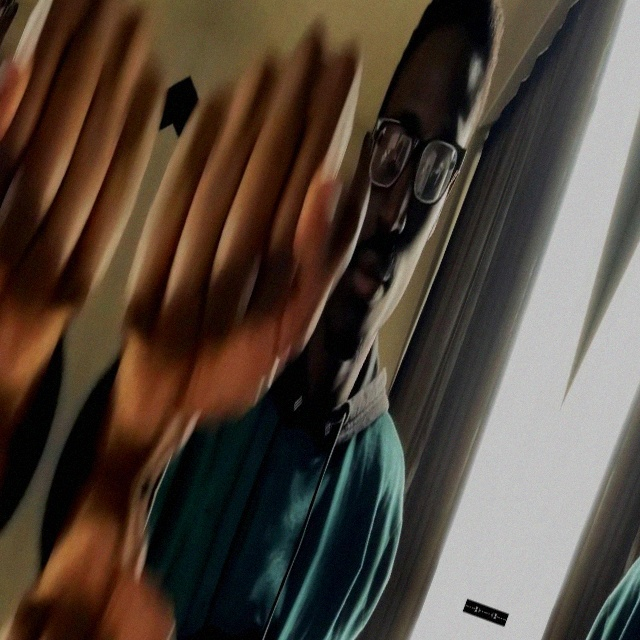Rock: (0, 0, 219, 419)
